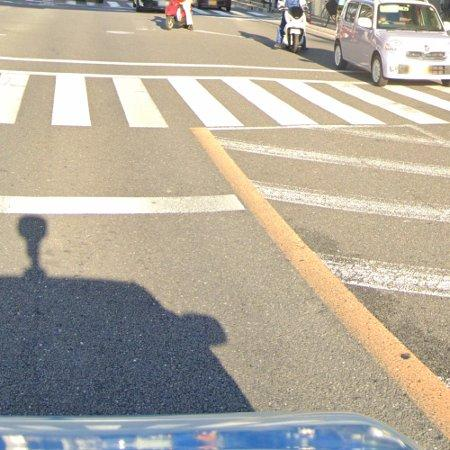crosswalks: (0, 68, 450, 127)
